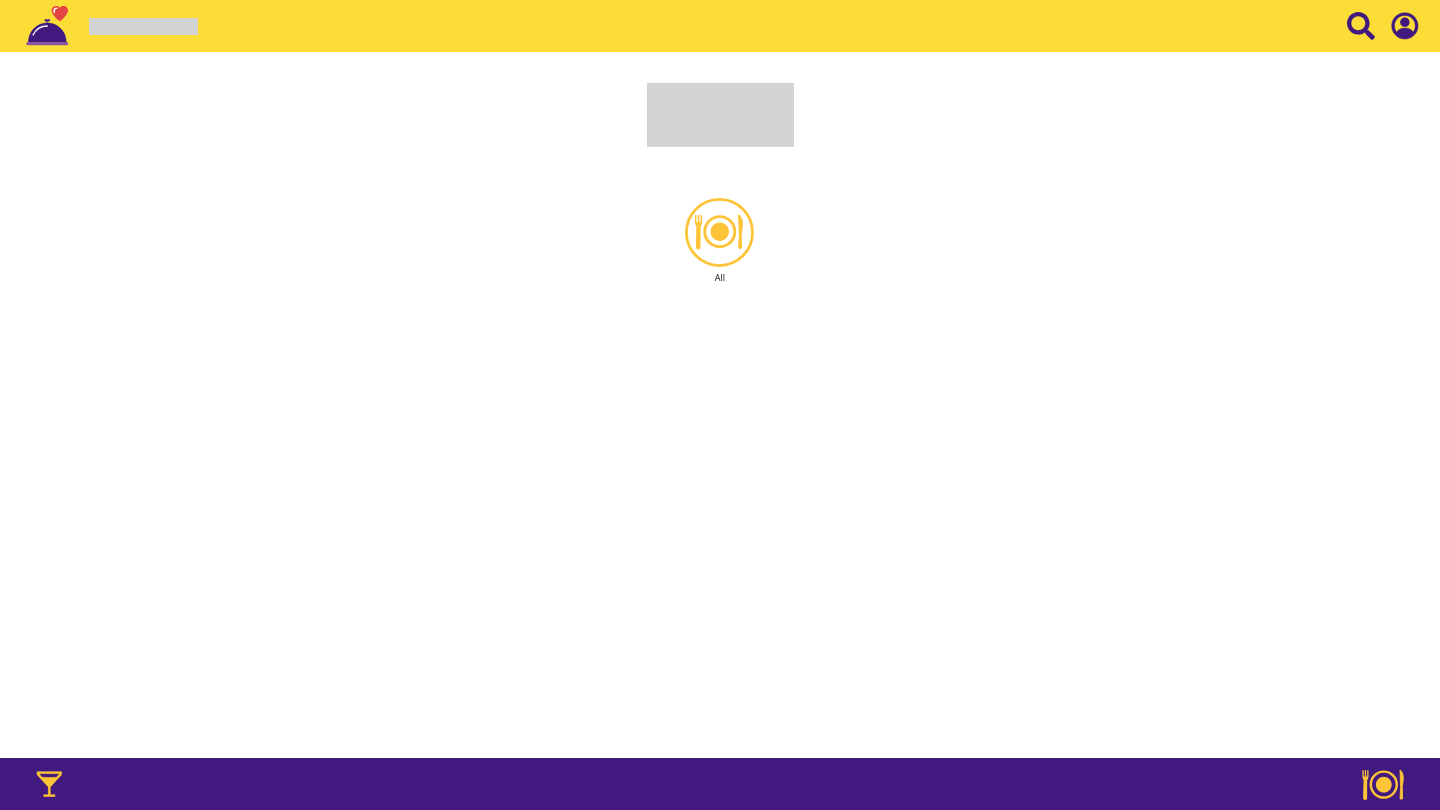
Scenario: Testes do componente Header › Verifica se ao clicar no botão de search o input é renderizado
This screenshot has width=1440, height=810.
Step 1. Click the button with test id "search-top-btn" → x=1361, y=26, box [1347,12,1375,40]
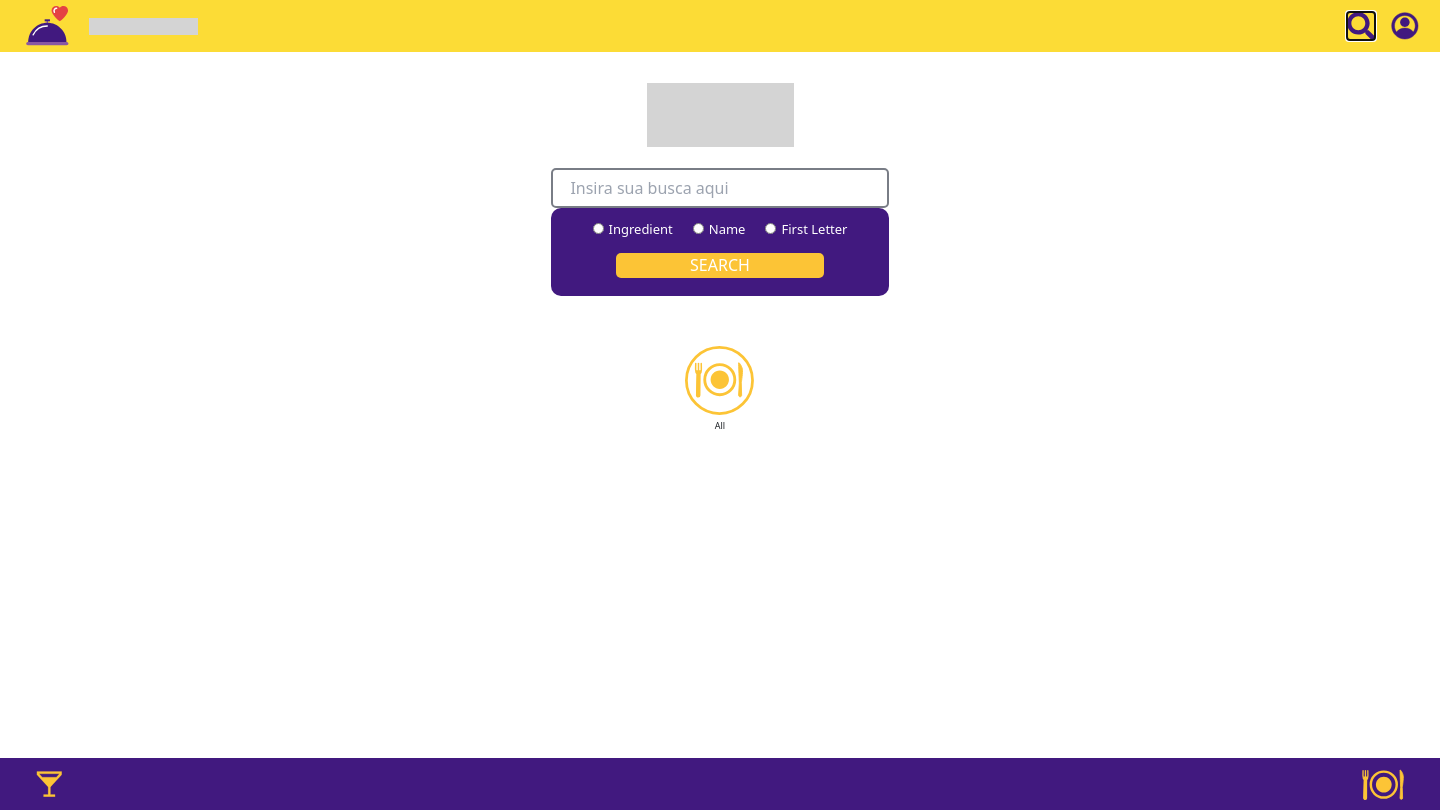
Expected: the field with test id "search-input" is shown, [551,168,889,208]
